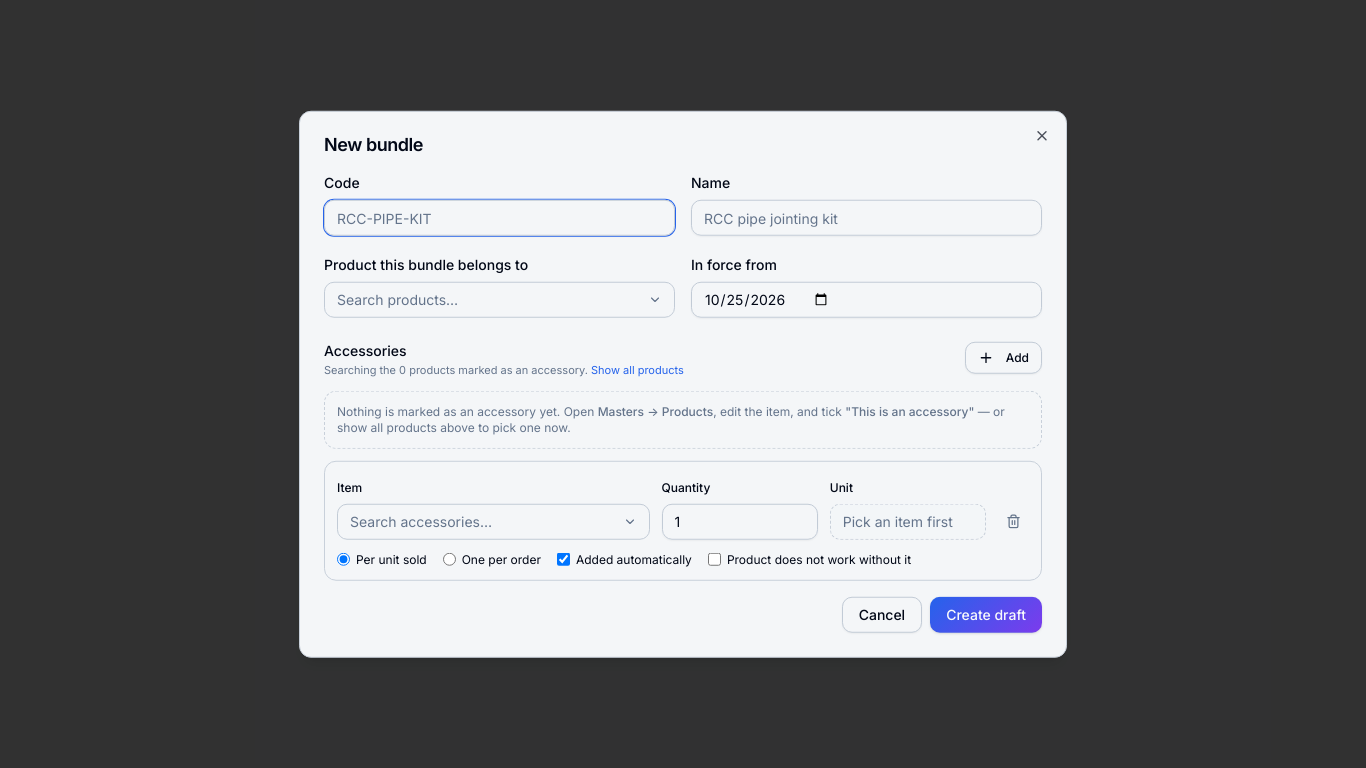
Test: BundleRuleFormDialog › offers only accessories, with a way out when something is not marked yet
expect the text "Nothing is marked as an accessory yet" is shown: met, box [337, 403, 598, 418]
Click the button "Show all products".
click(637, 370)  # box [591, 362, 684, 378]
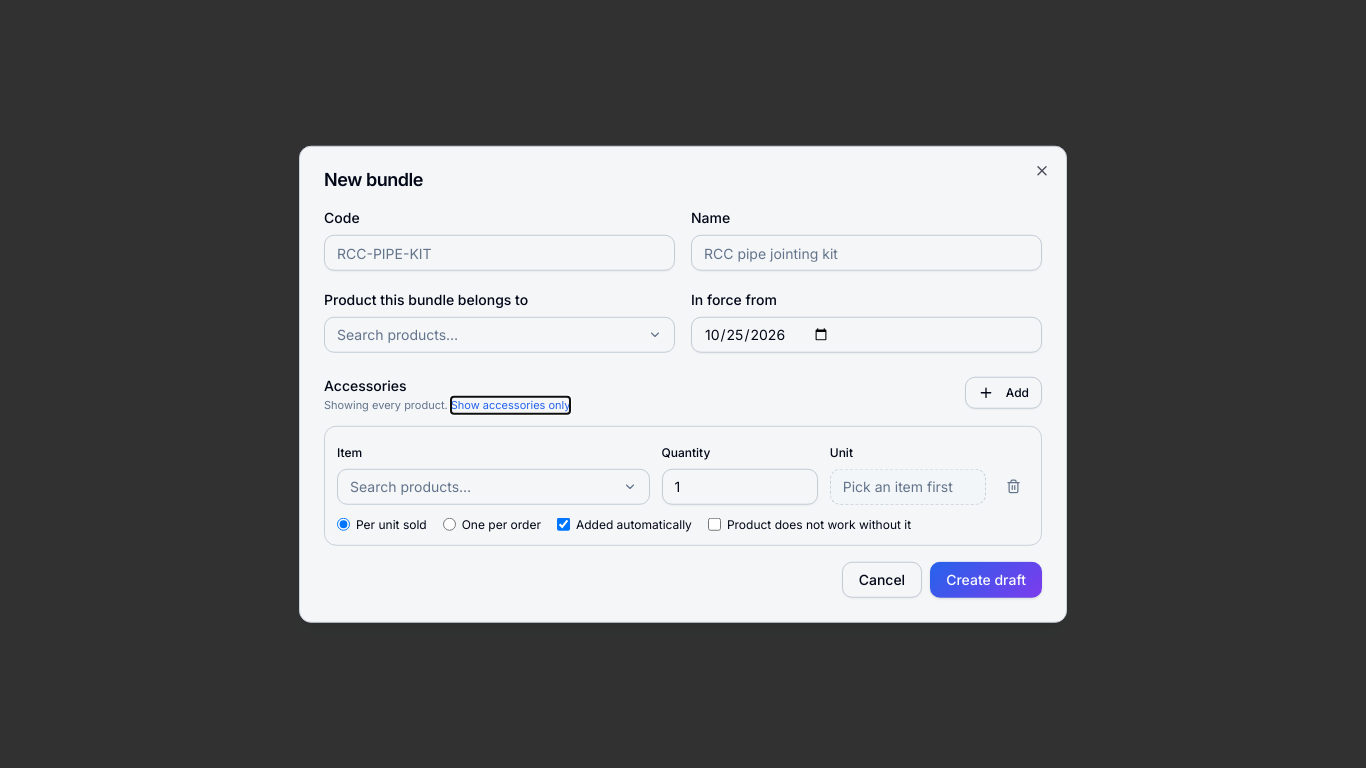
expect the text "Showing every product. Show accessories only" is shown: met, box [324, 397, 570, 413]
